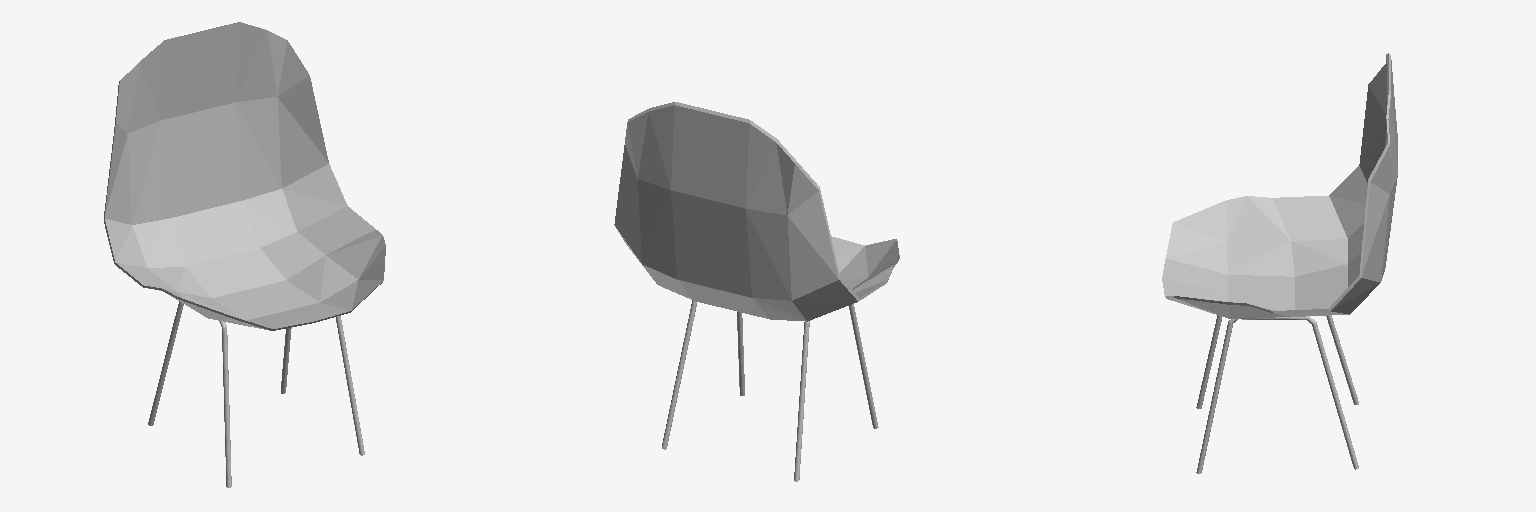
File: chair.obj
3 views of the same model, side by side, from view 1: azimuth 30°, elevation 25°; view 2: azimuth 150°, elevation 25°; view 3: azimuth 270°, elevation 25° (orthographic).
Parts seen in each view (by area): view 1: Plane.002_Plane.004, Cylinder.001, Cylinder; view 2: Plane.002_Plane.004, Cylinder.001, Cylinder; view 3: Plane.002_Plane.004, Cylinder, Cylinder.001.
Boxes of the visible parts, box(x1,y1,x2,y2) form: Plane.002_Plane.004: box(104, 22, 385, 330); Cylinder.001: box(148, 301, 231, 487); Cylinder: box(281, 316, 364, 455); Plane.002_Plane.004: box(614, 102, 899, 321); Cylinder.001: box(794, 304, 878, 481); Cylinder: box(662, 300, 744, 449); Plane.002_Plane.004: box(1162, 53, 1397, 318); Cylinder: box(1196, 316, 1358, 473); Cylinder.001: box(1196, 315, 1358, 408).
Size of the model in its own units: 1.8 by 2.74 by 1.58.